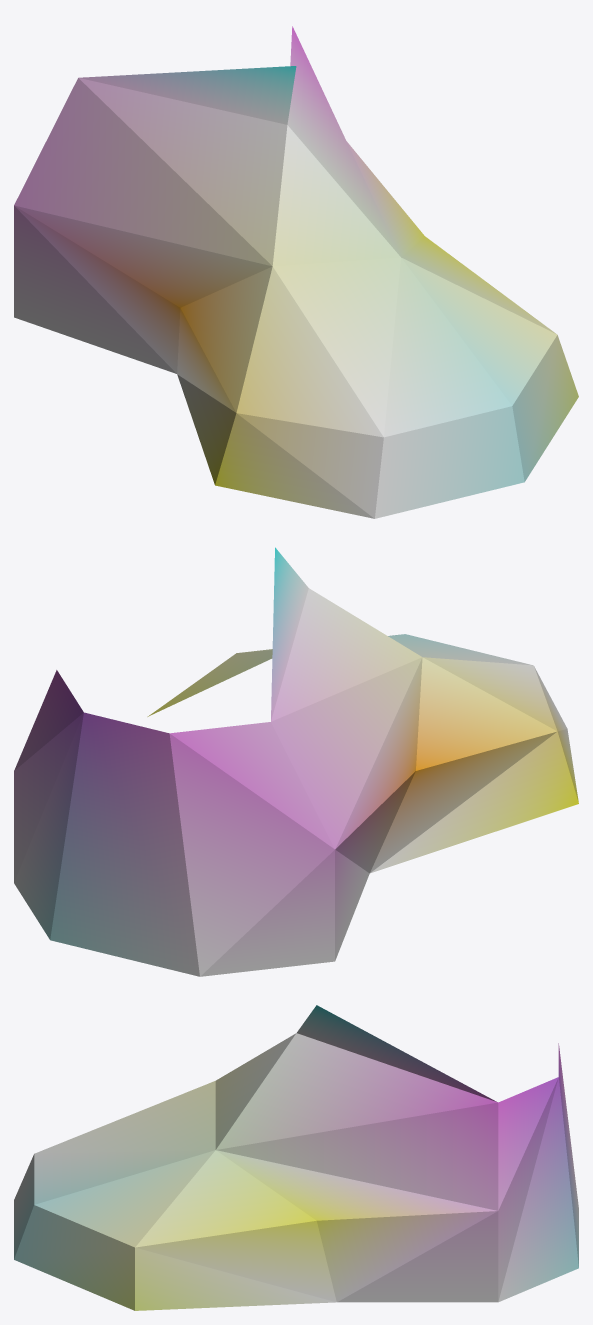
3 renders of one model, top to bottom at view 1: azimuth 30°, elevation 25°; view 2: azimuth 150°, elevation 25°; view 3: azimuth 270°, elevation 25°, orthographic. The views are drawn at different scales.
Parts seen in each view (by area): view 1: model_1101; view 2: model_1101; view 3: model_1101.
Boxes of the visible parts, bbox=[...] form: model_1101: bbox=[14, 26, 578, 518]; model_1101: bbox=[14, 547, 578, 976]; model_1101: bbox=[14, 1005, 578, 1310].
Bounding box in the file's own units: 17 × 13 × 28.
